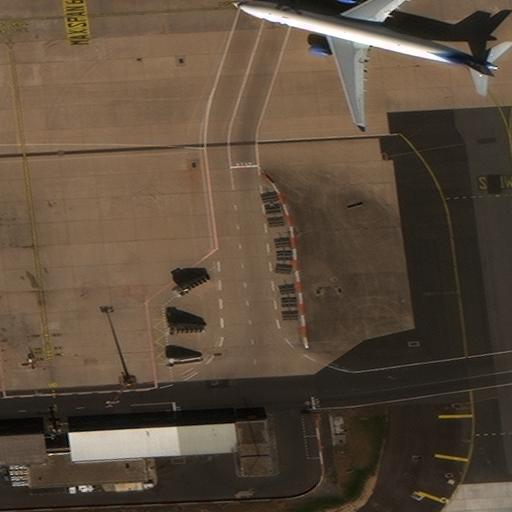Large Civil Transport: (232, 0, 497, 130)
